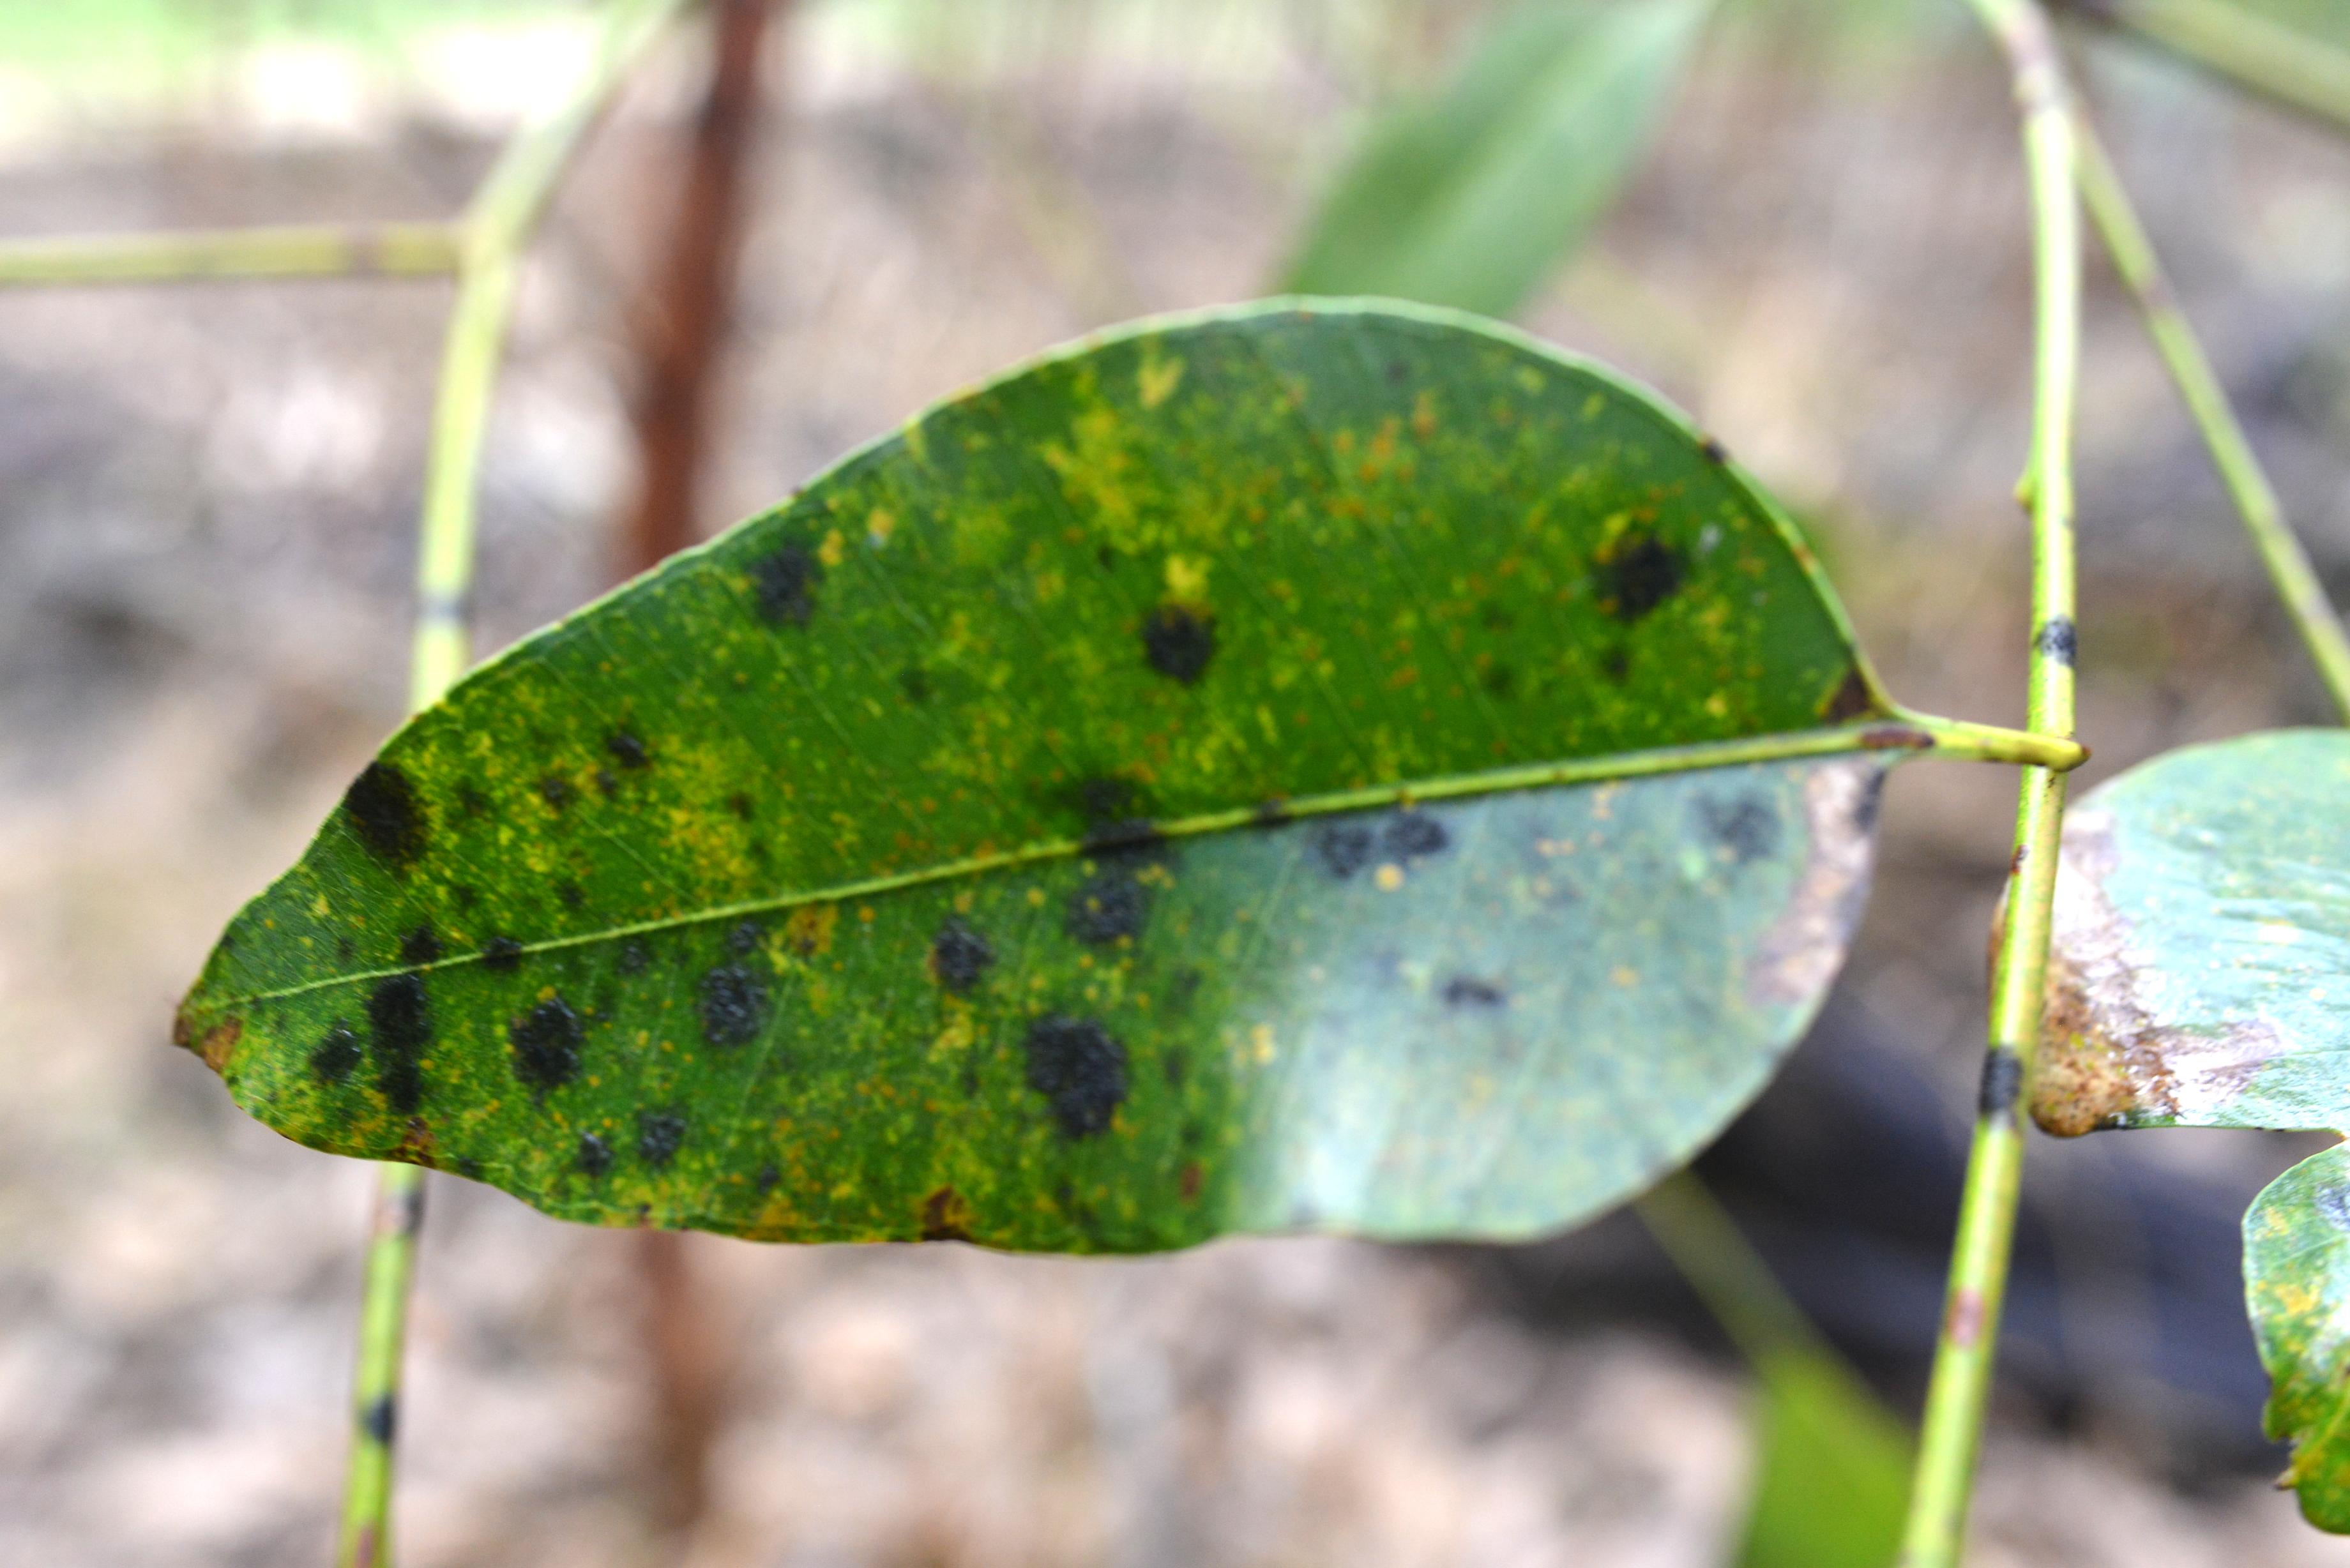Embun Jelaga: (198, 278, 1892, 1274)
